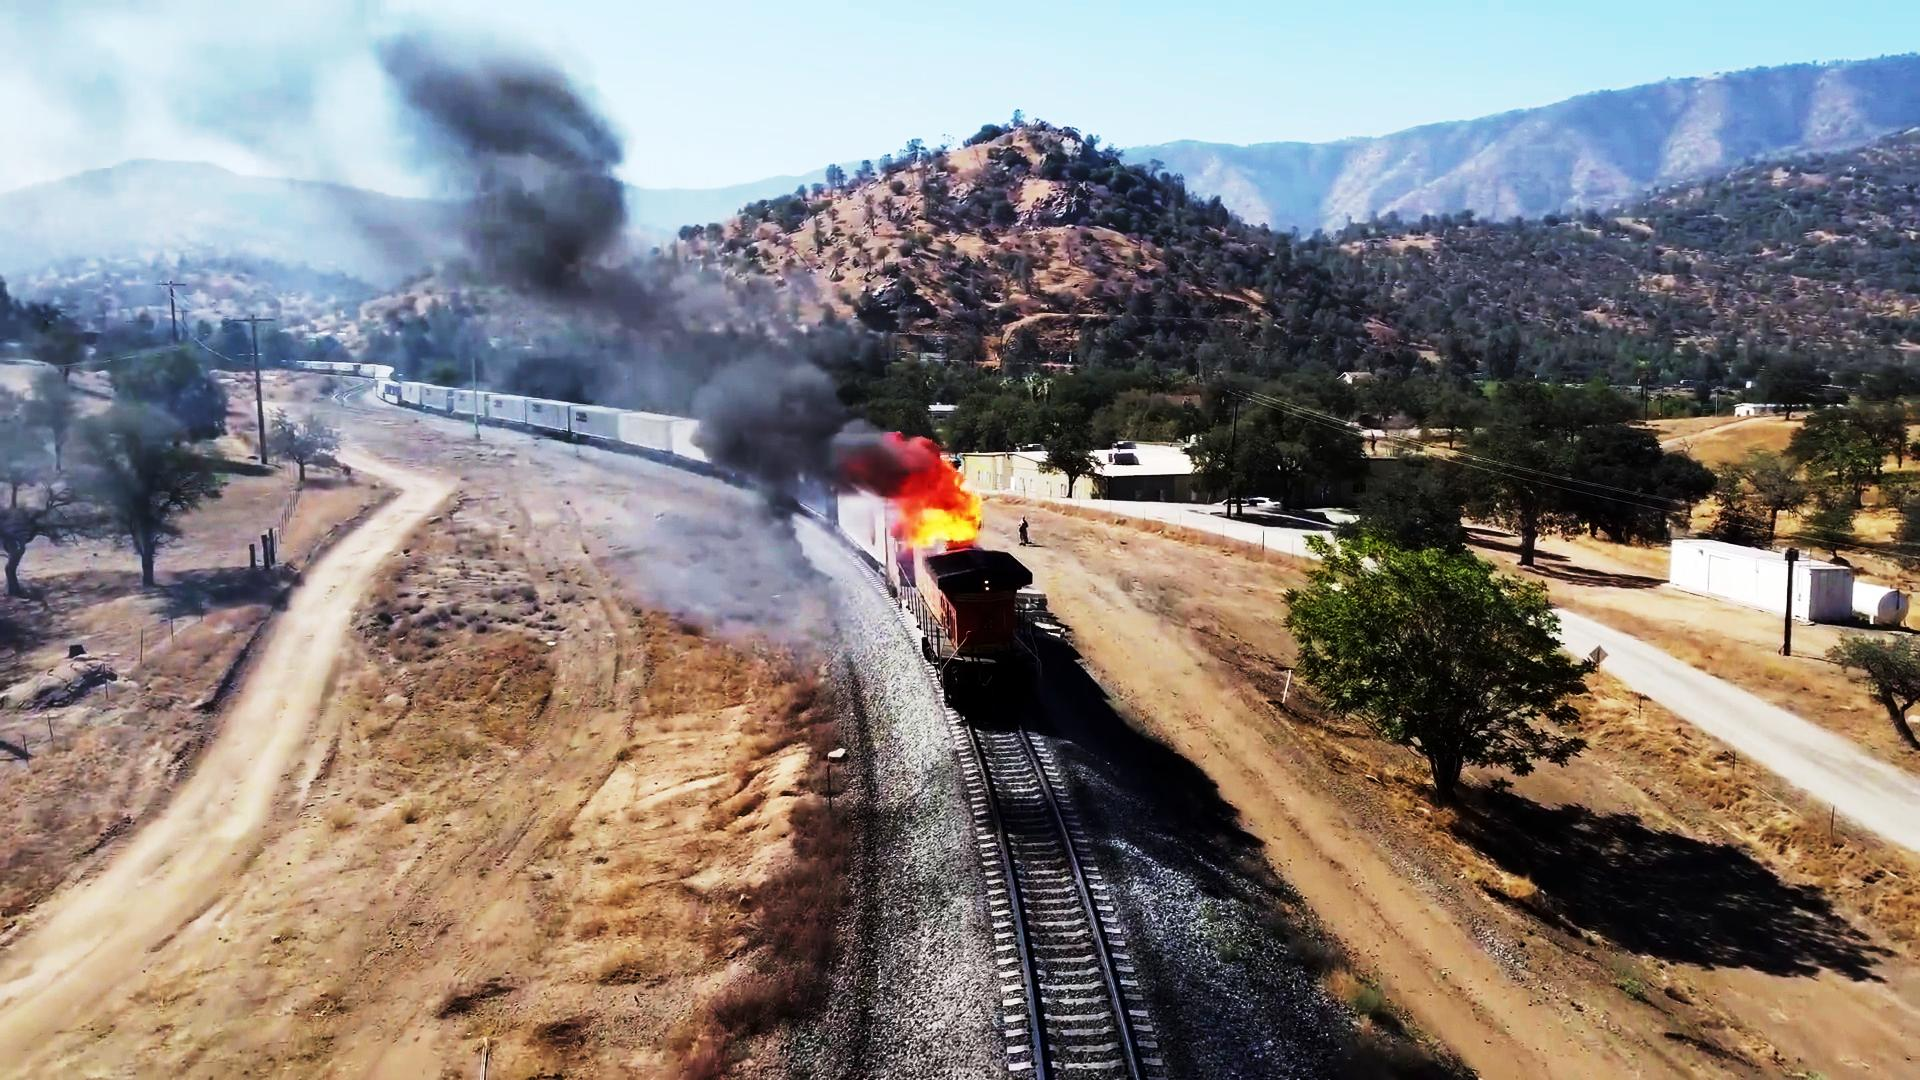fire: (887, 440, 1006, 546)
smoke: (396, 28, 645, 332), (691, 331, 843, 497)
